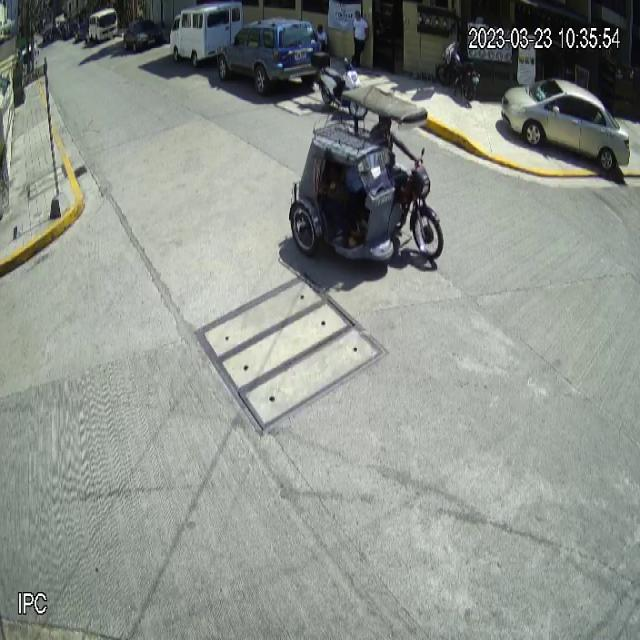Car: (501, 79, 631, 172), (217, 16, 322, 96)
Tricycle: (287, 84, 443, 264)
Van: (170, 0, 243, 67)
